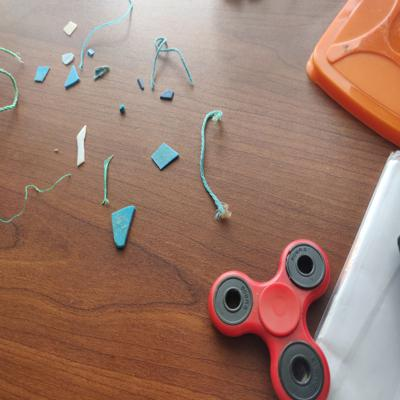plastic: (109, 203, 139, 252), (149, 141, 182, 173), (74, 120, 90, 169), (62, 65, 81, 91), (32, 63, 53, 85), (93, 61, 111, 82), (62, 17, 79, 39), (58, 49, 77, 66), (159, 87, 178, 103), (136, 75, 147, 97), (116, 104, 131, 118)
thread: (192, 106, 235, 222), (77, 1, 145, 71), (1, 173, 77, 226), (146, 32, 196, 92), (1, 45, 28, 113), (101, 151, 114, 209)
